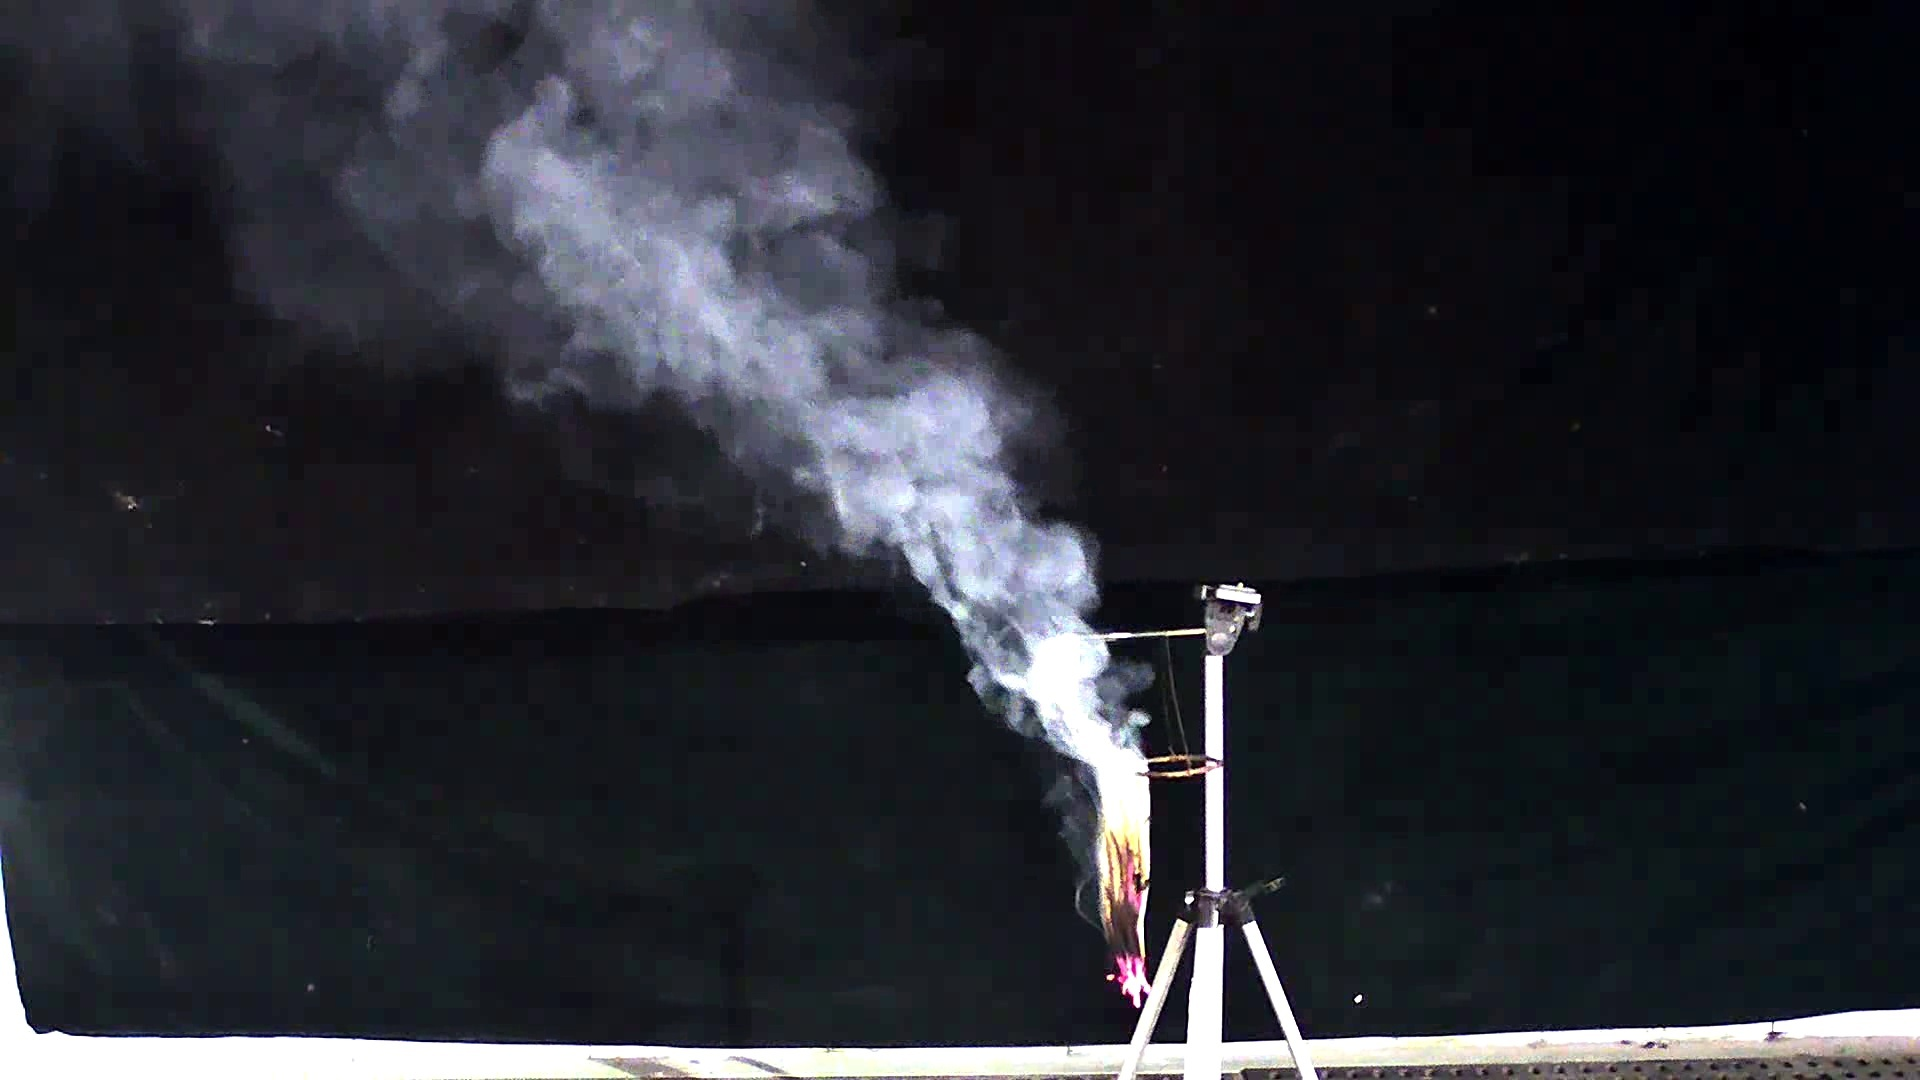smoke: (306, 32, 1127, 736)
